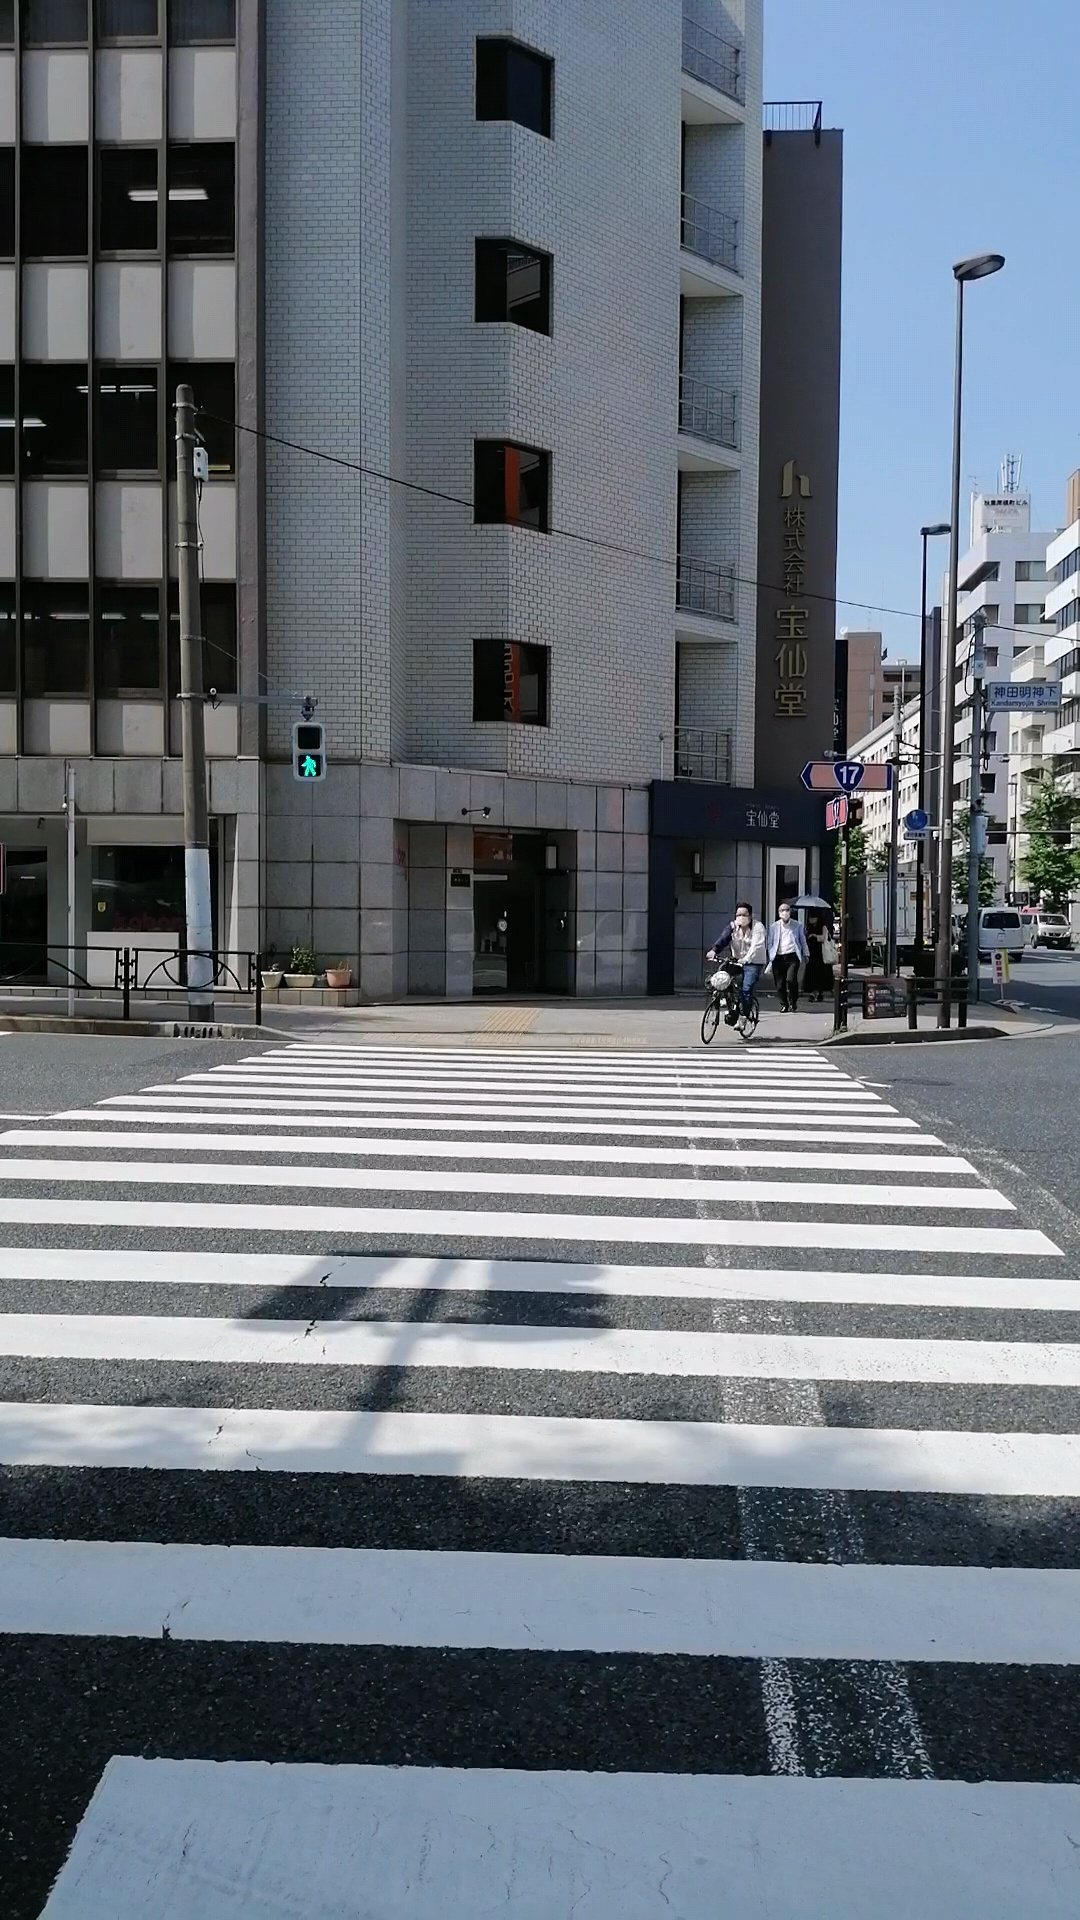green: (291, 720, 324, 781)
